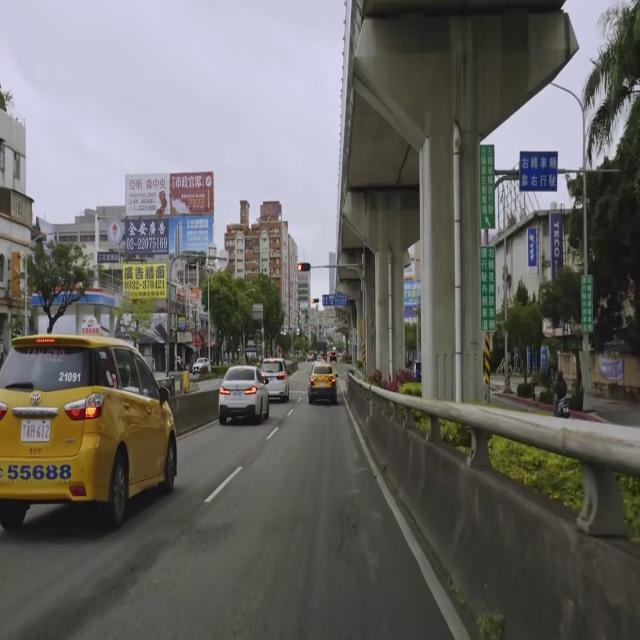red light: (297, 263, 311, 272), (311, 298, 319, 304)
